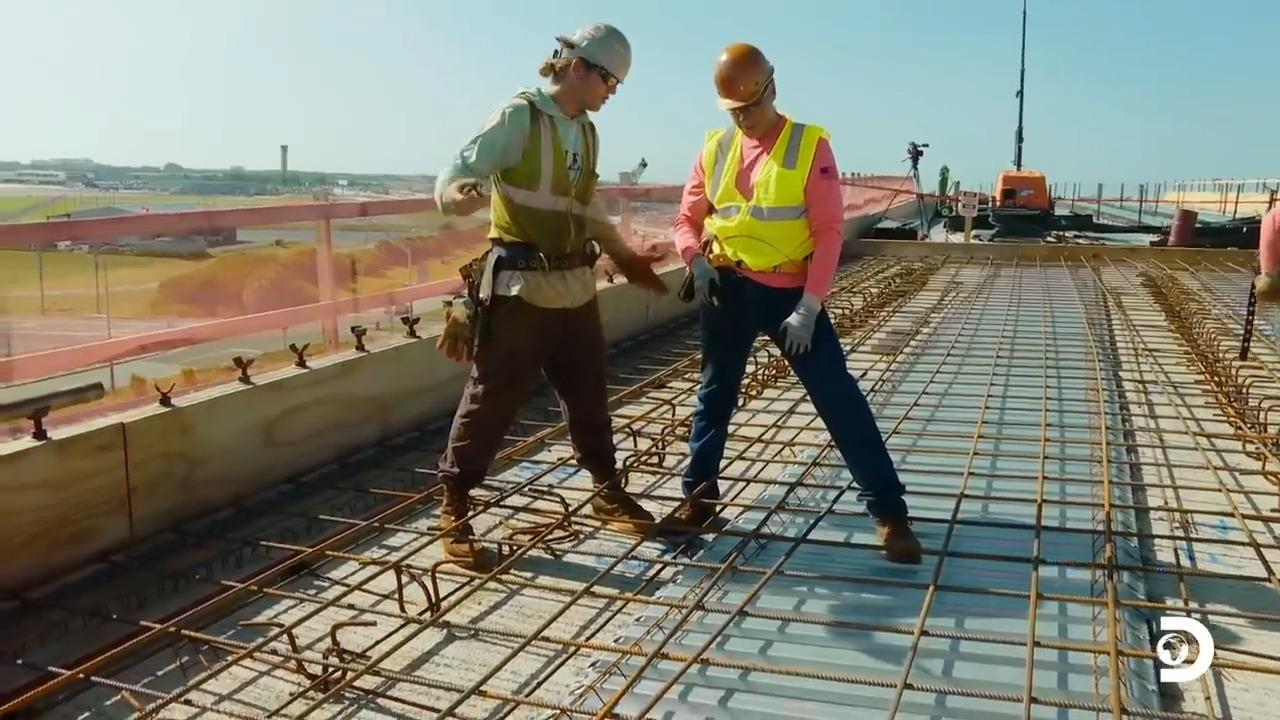Gloves: (438, 297, 483, 358), (439, 175, 495, 224), (777, 297, 813, 353), (683, 260, 722, 303)
Helmet: (553, 22, 632, 84), (713, 42, 774, 110)
Person: (655, 41, 922, 565), (432, 21, 666, 565)
Safety Boot: (593, 494, 650, 533), (875, 517, 919, 566), (439, 514, 482, 563), (661, 496, 707, 538)
Safety Vest: (705, 133, 807, 263), (501, 109, 589, 242)
bare-arms: (617, 249, 669, 301)
